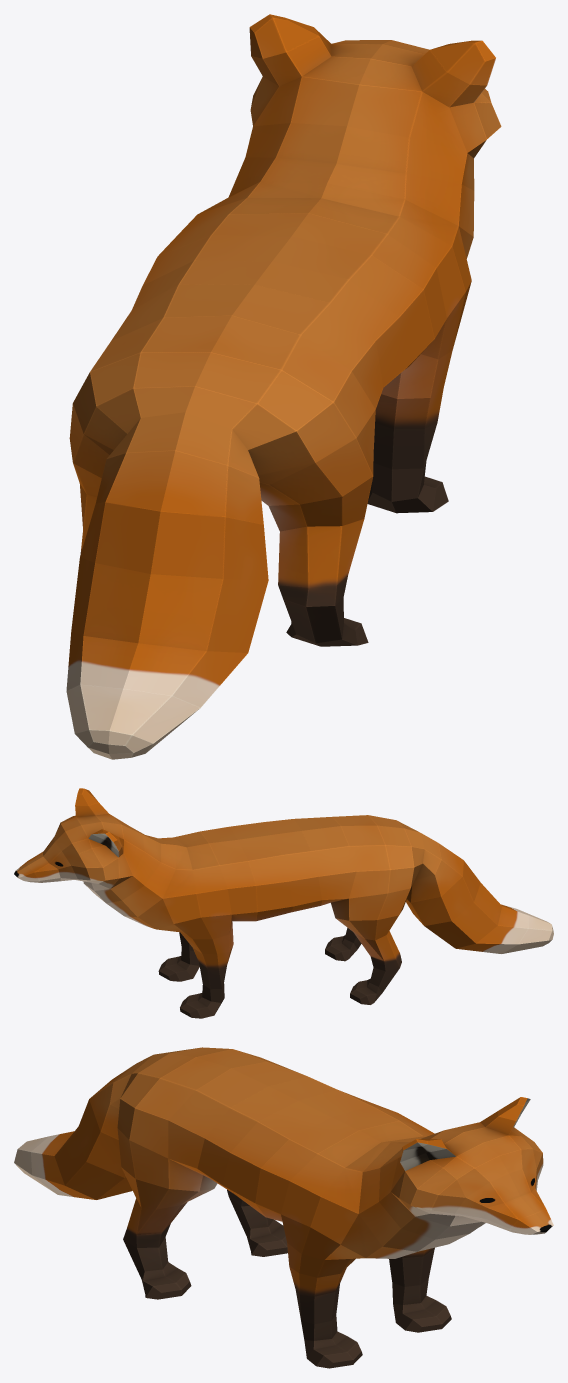
The model's file is fox_mesh_lev1_lev2.glb.
3 views of the same model, one above another, from view 1: azimuth 30°, elevation 25°; view 2: azimuth 150°, elevation 25°; view 3: azimuth 270°, elevation 25° (orthographic). The views are drawn at different scales.
Visible parts, largest first — view 1: fox_mesh_lev1_lev2; view 2: fox_mesh_lev1_lev2; view 3: fox_mesh_lev1_lev2.
Part boxes in pixels (x1,y1,x2,y2): fox_mesh_lev1_lev2: (66,14,501,759); fox_mesh_lev1_lev2: (14,788,553,1018); fox_mesh_lev1_lev2: (14,1047,553,1368).
Size of the model in its own units: 2.88 by 1.47 by 2.75.
1 material, 1 textured.
